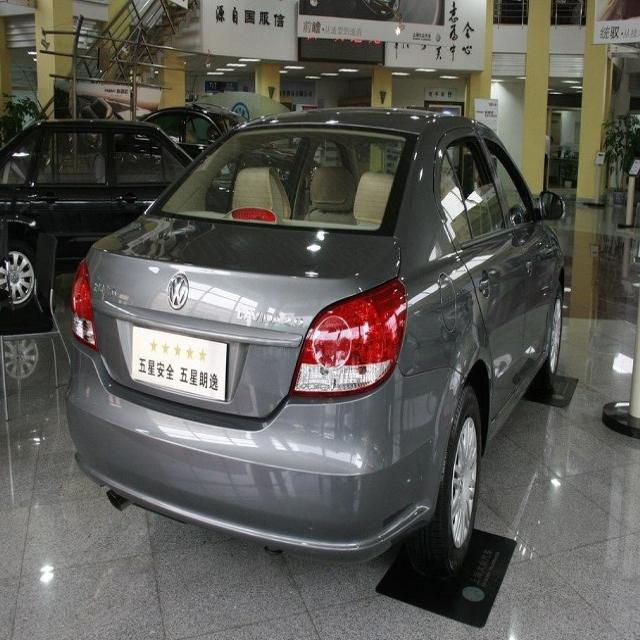back_glass: (153, 128, 420, 234)
back_left_side_light: (68, 253, 101, 351)
back_right_side_light: (289, 273, 409, 403)
front_right_side_door: (473, 121, 551, 394)
front_right_side_mirror: (537, 188, 566, 225)
rear_bumper: (67, 356, 459, 551)
wheel: (423, 387, 480, 578), (544, 288, 564, 388)
